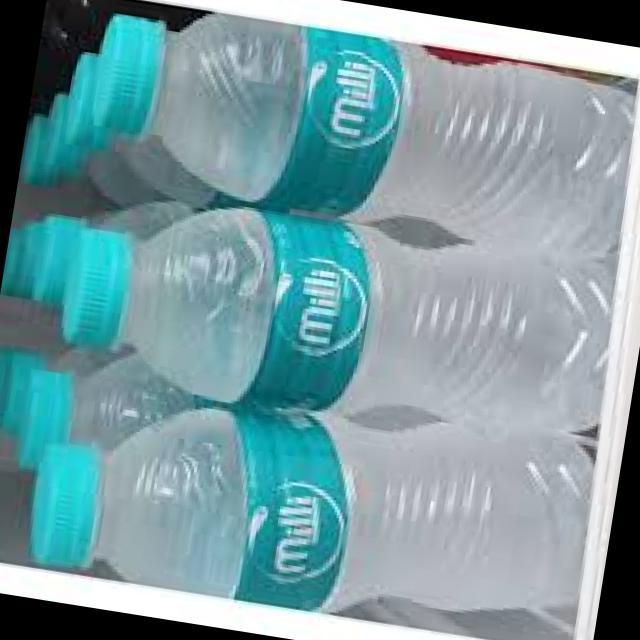good: (20, 341, 599, 640), (55, 175, 626, 457), (90, 0, 640, 235), (57, 20, 605, 248), (0, 327, 488, 550), (30, 182, 524, 385)
